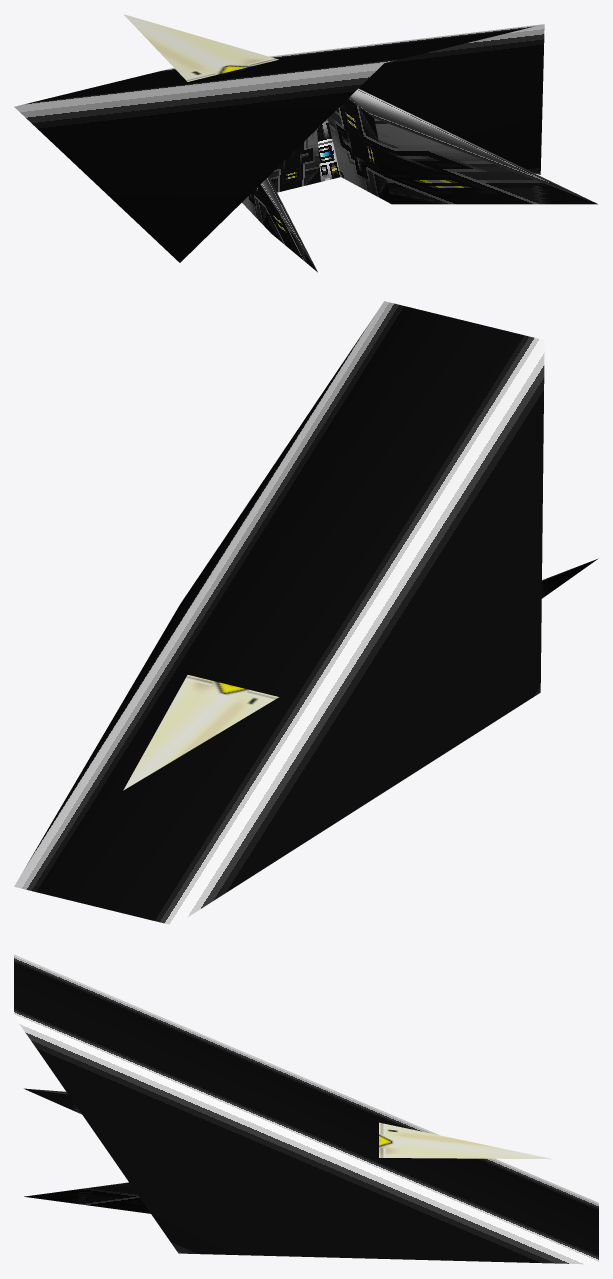
The model's file is Cockpit.obj.
The picture shows the model from 3 angles, top to bottom: view 1: azimuth 30°, elevation 25°; view 2: azimuth 150°, elevation 25°; view 3: azimuth 270°, elevation 25°; orthographic projection. The views are drawn at different scales.
Parts seen in each view (by area): view 1: Mesh1 Group1 skpD844_1 Model, Mesh2 Group1 skpD844_1 Model, Mesh3 Group1 skpD844_1 Model; view 2: Mesh1 Group1 skpD844_1 Model, Mesh3 Group1 skpD844_1 Model; view 3: Mesh1 Group1 skpD844_1 Model, Mesh3 Group1 skpD844_1 Model, Mesh2 Group1 skpD844_1 Model.
Boxes of the visible parts, x1,y1,x2,y2 form: Mesh1 Group1 skpD844_1 Model: [14, 24, 544, 262]; Mesh2 Group1 skpD844_1 Model: [242, 88, 597, 272]; Mesh3 Group1 skpD844_1 Model: [123, 14, 278, 81]; Mesh1 Group1 skpD844_1 Model: [14, 301, 544, 925]; Mesh3 Group1 skpD844_1 Model: [123, 675, 278, 790]; Mesh1 Group1 skpD844_1 Model: [14, 954, 598, 1264]; Mesh3 Group1 skpD844_1 Model: [379, 1122, 552, 1159]; Mesh2 Group1 skpD844_1 Model: [24, 1088, 150, 1213].
Bounding box in the file's own units: 1.42 × 1.18 × 2.52.
6 materials, 6 textured.
